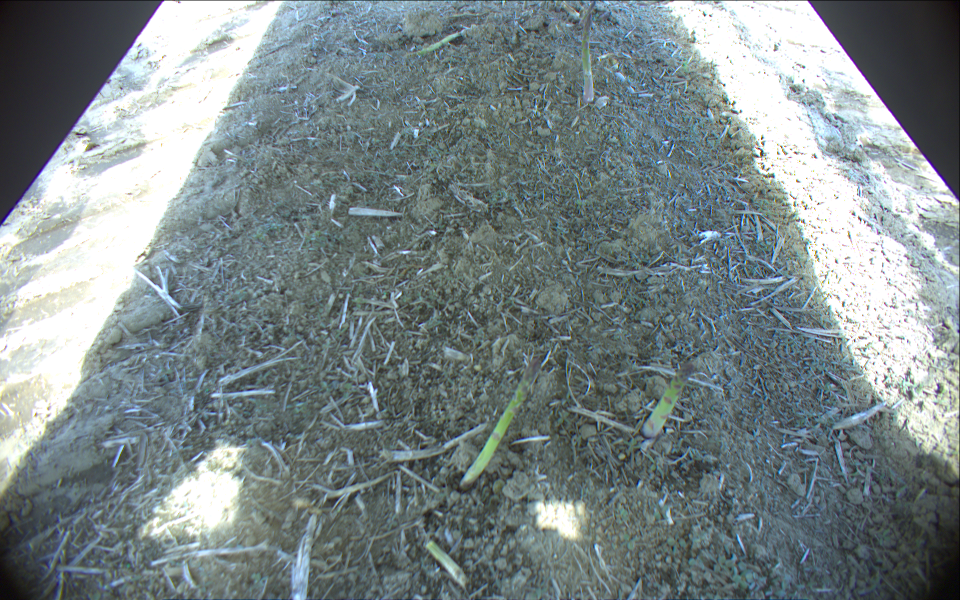aspa: (455, 357, 541, 493), (645, 361, 696, 440), (581, 1, 600, 103), (426, 541, 467, 587), (404, 30, 467, 58)
